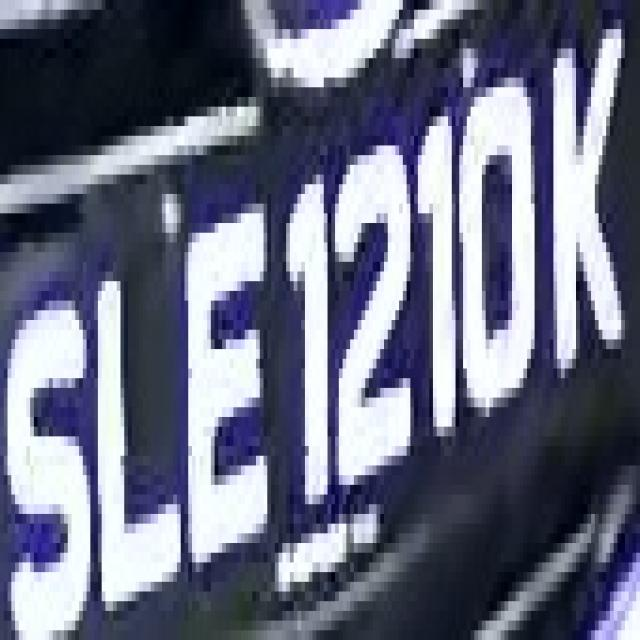0: (448, 58, 546, 417)
1: (410, 58, 463, 485), (286, 155, 343, 543)
2: (327, 136, 418, 533)
E: (169, 194, 271, 582)
K: (542, 19, 629, 378)
L: (86, 252, 196, 611)
S: (0, 4, 1, 10)
